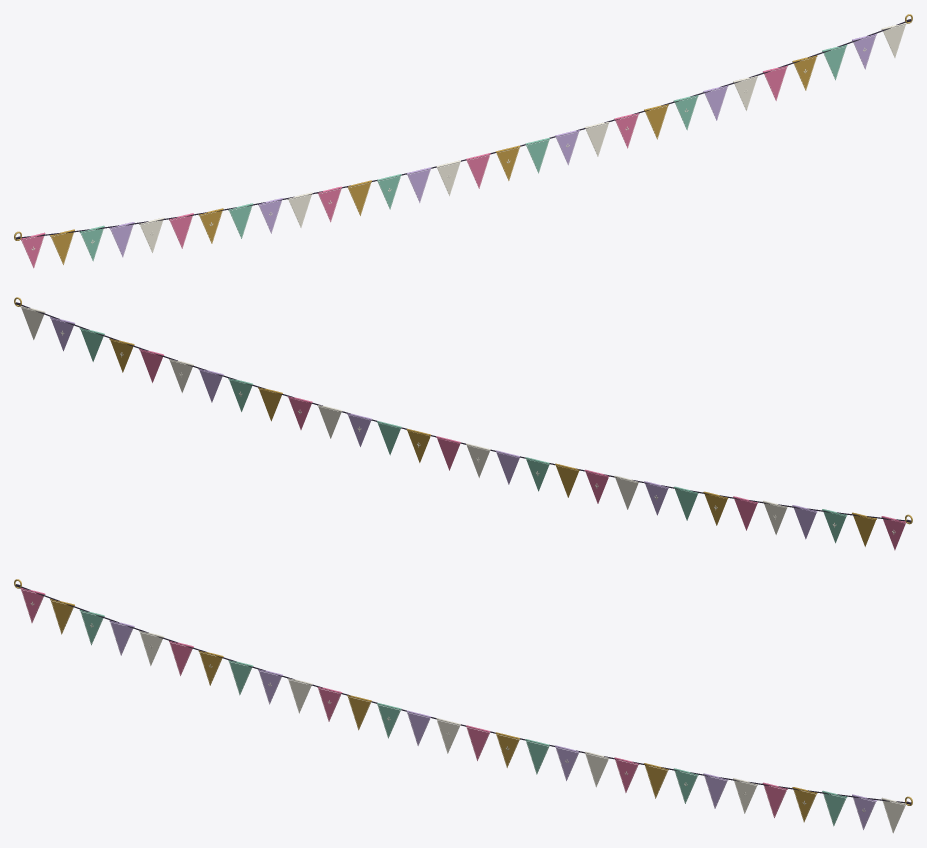
The model's file is bunting_botanical.glb.
3 views of the same model, one above another, from view 1: azimuth 30°, elevation 25°; view 2: azimuth 150°, elevation 25°; view 3: azimuth 330°, elevation 25° (orthographic).
Visible parts, largest first — view 1: Continuous_braided_cord; view 2: Continuous_braided_cord; view 3: Continuous_braided_cord.
Part boxes in pixels (bbox=[...]): Continuous_braided_cord: bbox=[21, 21, 905, 238]; Continuous_braided_cord: bbox=[21, 305, 904, 521]; Continuous_braided_cord: bbox=[21, 586, 905, 803].
Size of the model in its own units: 9.69 by 0.7106 by 0.0315.
